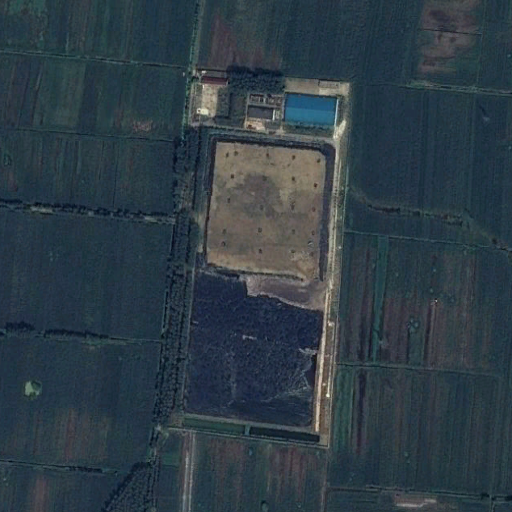lf: (181, 266, 327, 432)
